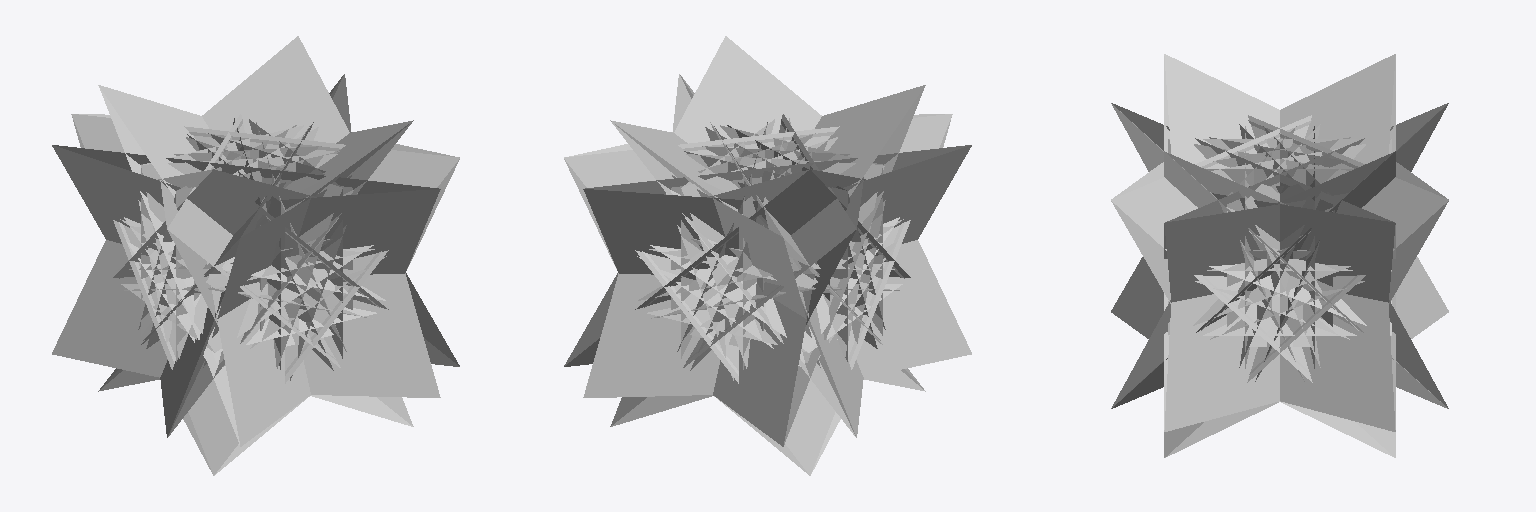
The model's file is starcomponent.obj.
3 views of the same model, side by side, from view 1: azimuth 30°, elevation 25°; view 2: azimuth 150°, elevation 25°; view 3: azimuth 270°, elevation 25° (orthographic).
Parts seen in each view (by area): view 1: Cube; view 2: Cube; view 3: Cube.
Part boxes in pixels (left/top/right/bottom): Cube: left=52, top=36, right=459, bottom=475; Cube: left=564, top=36, right=971, bottom=475; Cube: left=1111, top=54, right=1448, bottom=457.
Bounding box in the file's own units: 9.55 × 9.55 × 9.55.